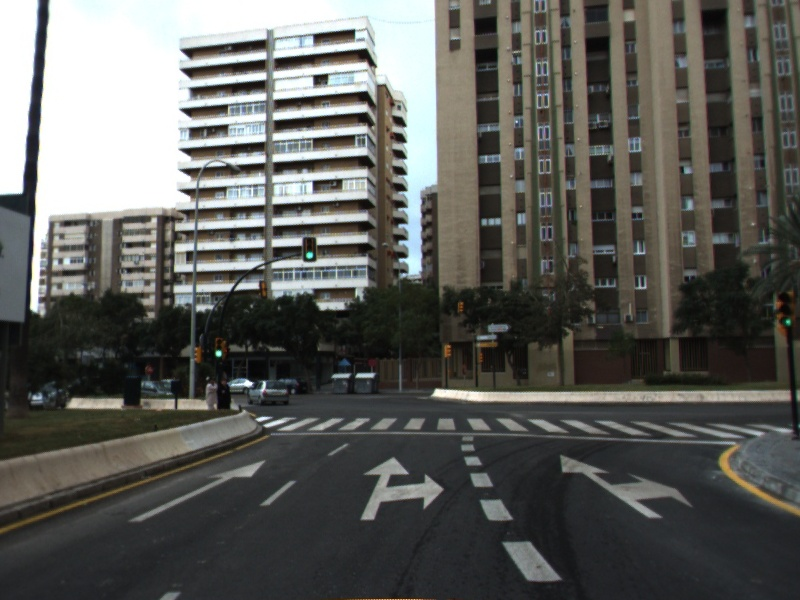STRAIGHT: (126, 457, 269, 524)
STRAIGHT_RIGHT: (558, 453, 695, 520), (359, 454, 447, 522)
